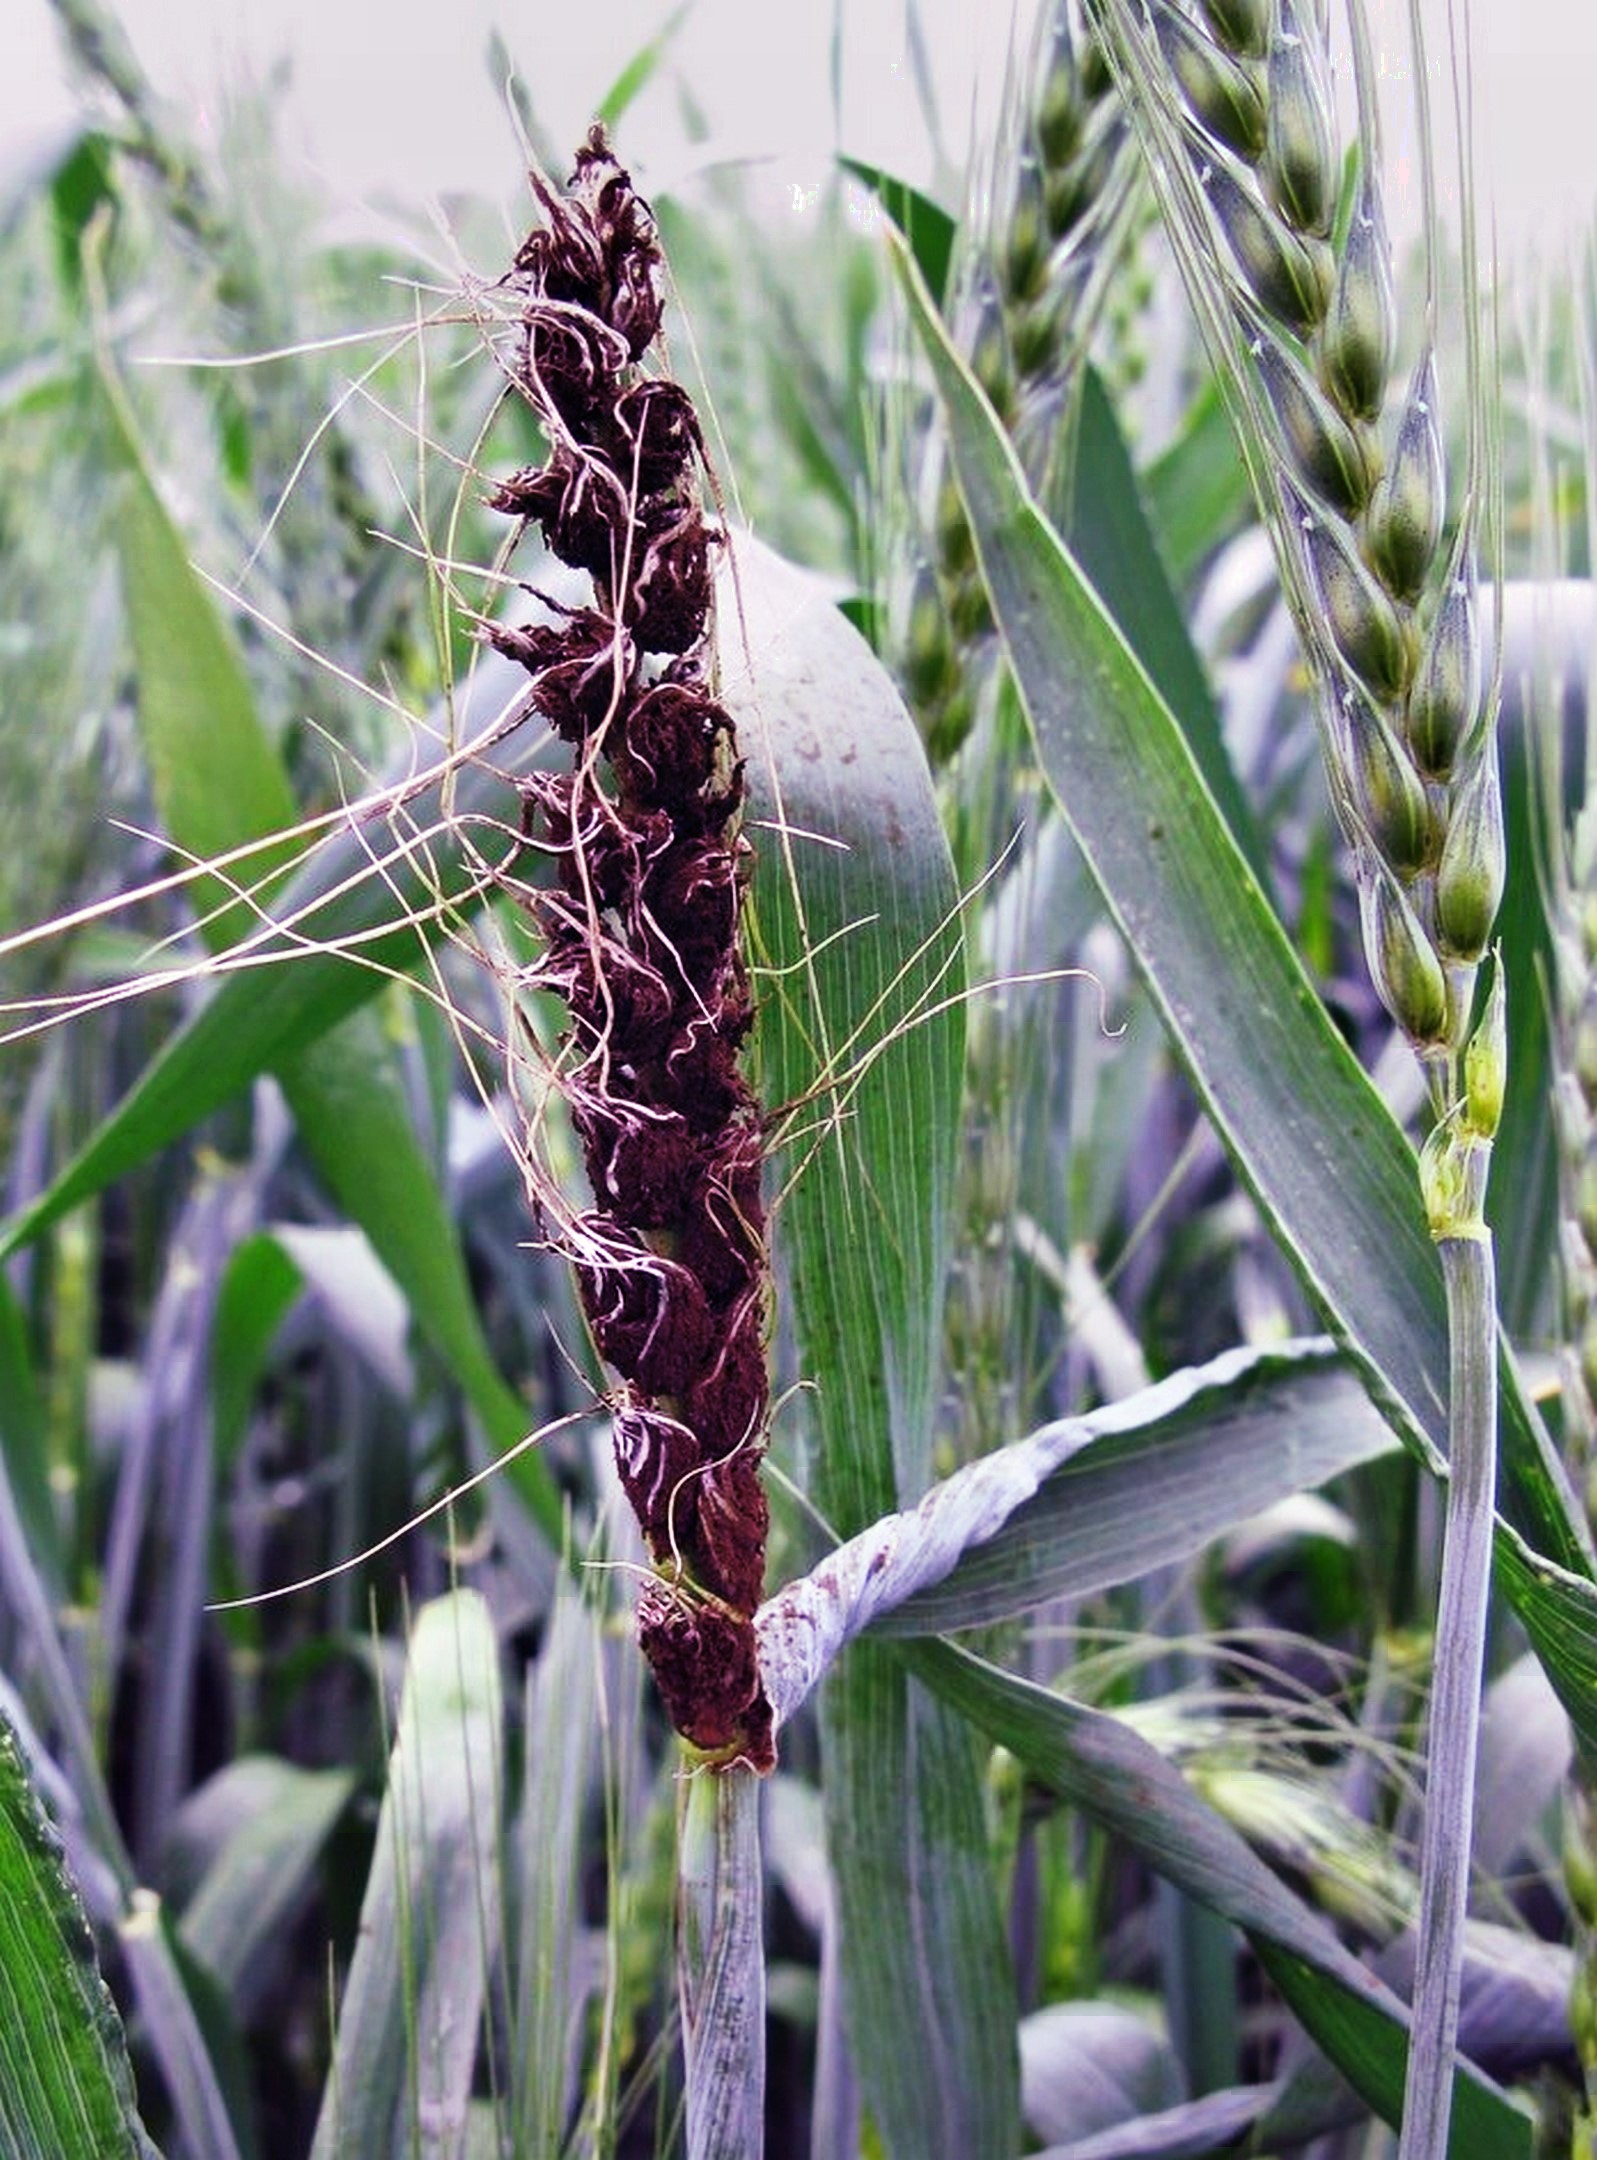Wheat Loose Smut: (443, 132, 849, 1694)
